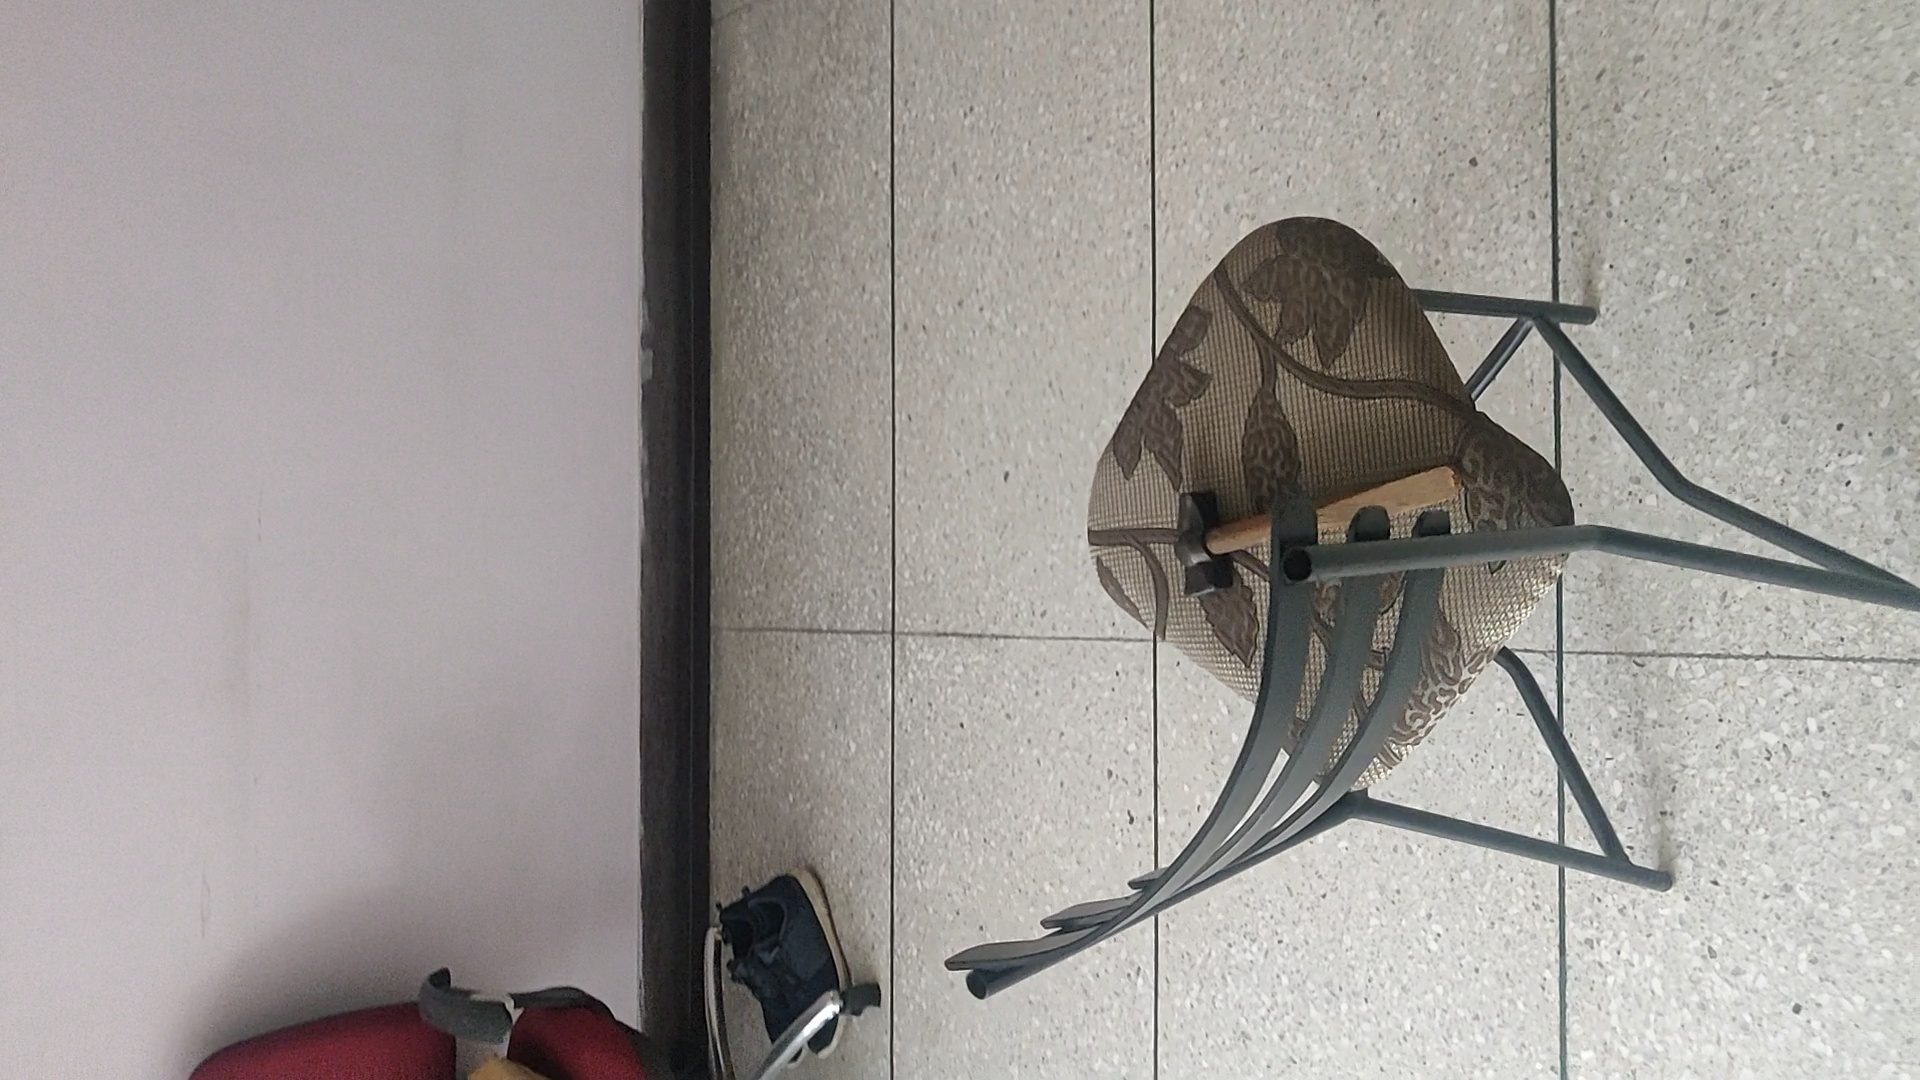hammer: (1171, 462, 1462, 599)
